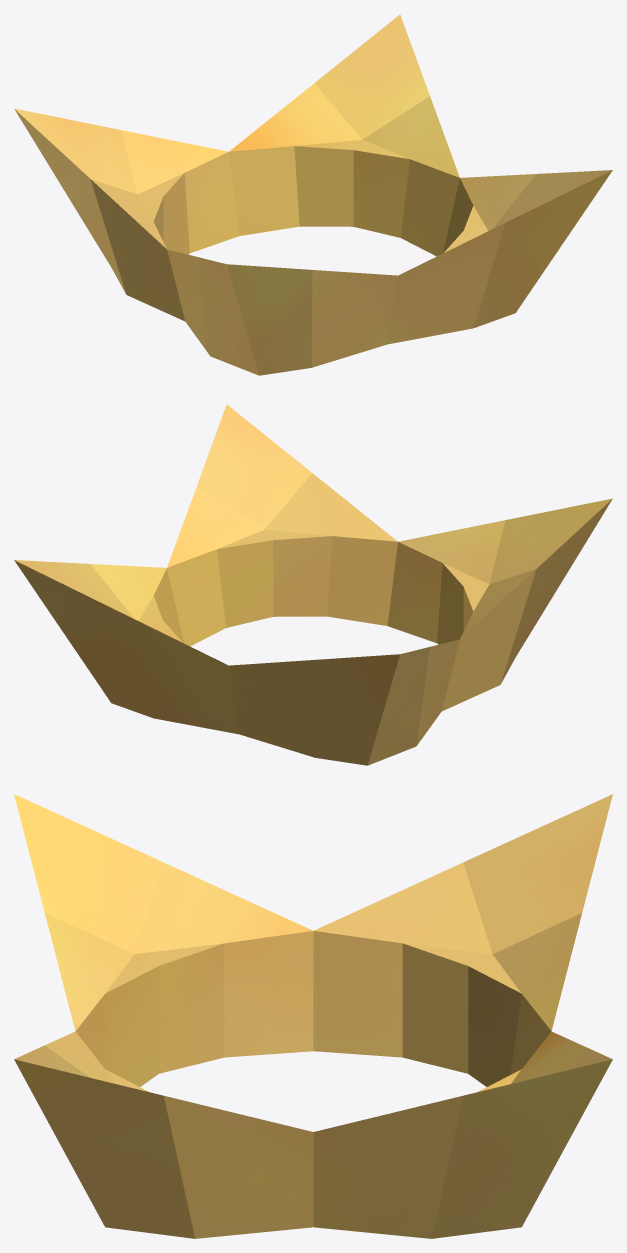
Rendered from crown.fbx.
3 renders of one model, top to bottom at view 1: azimuth 30°, elevation 25°; view 2: azimuth 150°, elevation 25°; view 3: azimuth 270°, elevation 25°, orthographic. The views are drawn at different scales.
Parts seen in each view (by area): view 1: Cube; view 2: Cube; view 3: Cube.
Part boxes in pixels (x1=…): Cube: x1=14, y1=14, x2=612, y2=375; Cube: x1=14, y1=404, x2=612, y2=765; Cube: x1=14, y1=794, x2=612, y2=1238.
Bounding box in the file's own units: 24.23 × 9.06 × 23.12.
